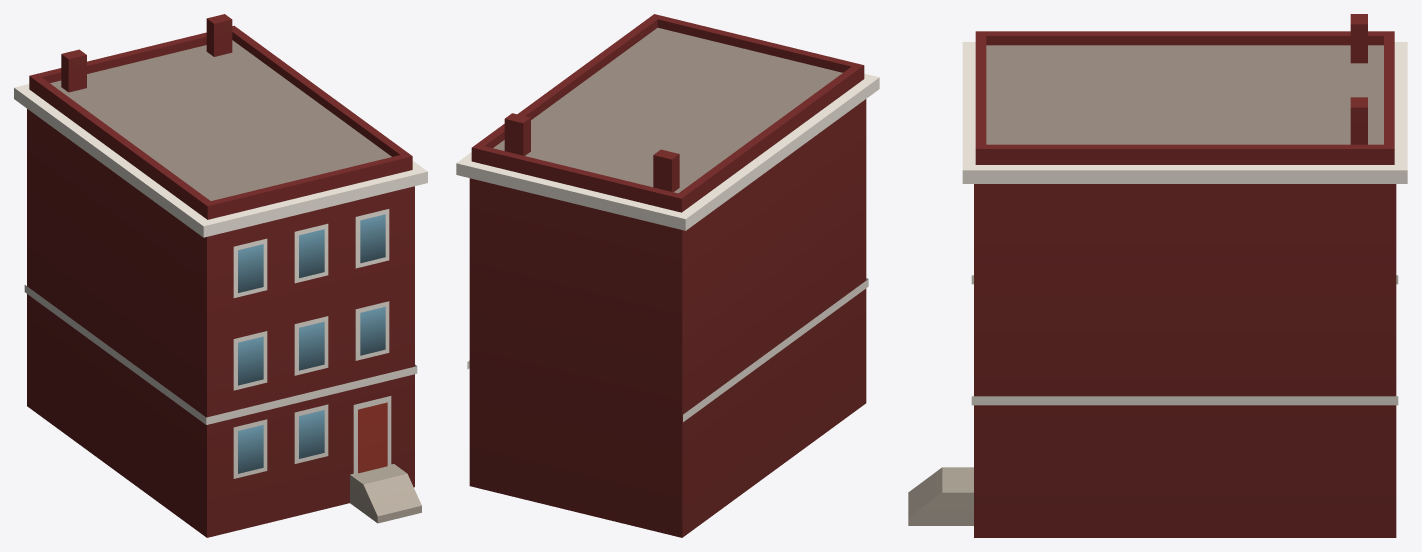
The model's file is beacon_n5_far.glb.
The picture shows the model from 3 angles, left to right: view 1: azimuth 30°, elevation 25°; view 2: azimuth 150°, elevation 25°; view 3: azimuth 270°, elevation 25°; orthographic projection. The views are drawn at different scales.
Visible parts, largest first — view 1: beacon_n5_far; view 2: beacon_n5_far; view 3: beacon_n5_far.
Part boxes in pixels (bbox=[...]): beacon_n5_far: bbox=[14, 14, 427, 537]; beacon_n5_far: bbox=[456, 14, 879, 537]; beacon_n5_far: bbox=[908, 14, 1407, 537].
Size of the model in its own units: 8.64 by 13.09 by 14.18.
Materials: 1 (1 with a texture image).
